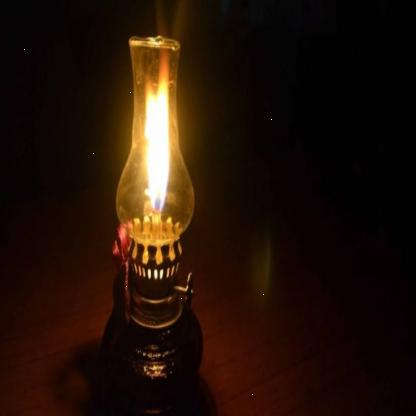fire: (143, 74, 174, 232)
